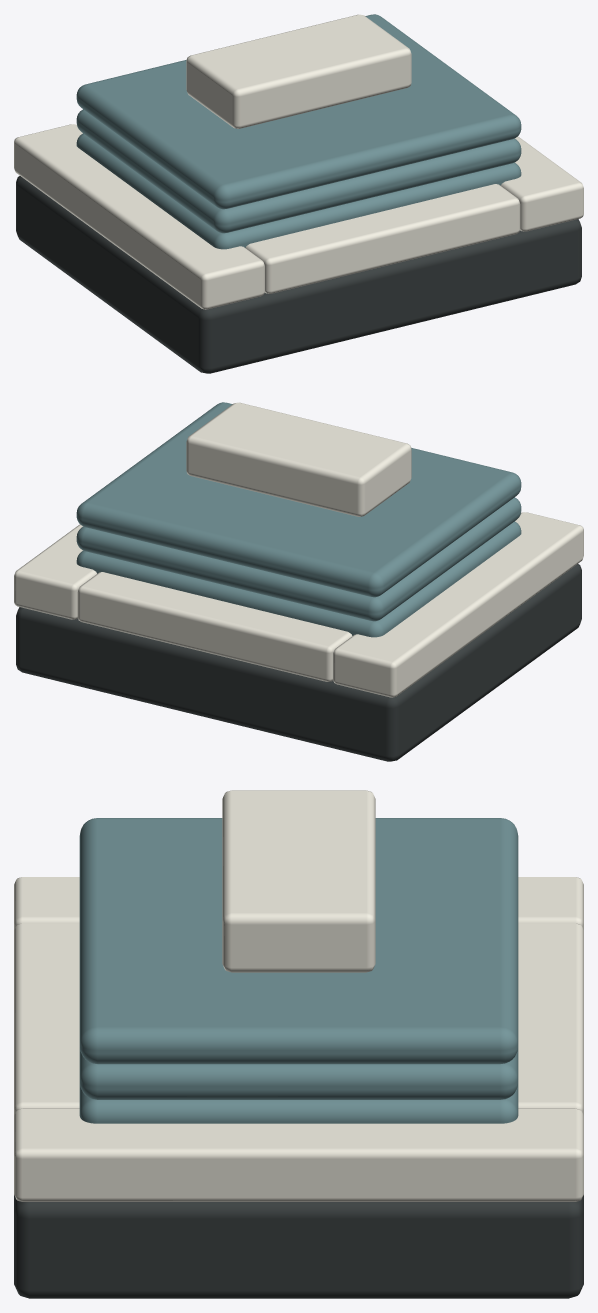
Rendered from optician-and-optical-lens-workshop-optician-and-optica-c07d251d__31689.glb.
3 views of the same model, one above another, from view 1: azimuth 30°, elevation 25°; view 2: azimuth 150°, elevation 25°; view 3: azimuth 270°, elevation 25° (orthographic). The views are drawn at different scales.
Visible parts, largest first — view 1: optician-and-optical-lens-workshop-lens-cleaning-cloth-holde (×3); view 2: optician-and-optical-lens-workshop-lens-cleaning-cloth-holde (×3); view 3: optician-and-optical-lens-workshop-lens-cleaning-cloth-holde (×3).
Part boxes in pixels (bbox=[...]): optician-and-optical-lens-workshop-lens-cleaning-cloth-holde (×3): bbox=[14, 14, 583, 373]; optician-and-optical-lens-workshop-lens-cleaning-cloth-holde (×3): bbox=[14, 402, 583, 761]; optician-and-optical-lens-workshop-lens-cleaning-cloth-holde (×3): bbox=[14, 790, 583, 1298].
Bounding box in the file's own units: 0.15 × 0.079 × 0.13.
